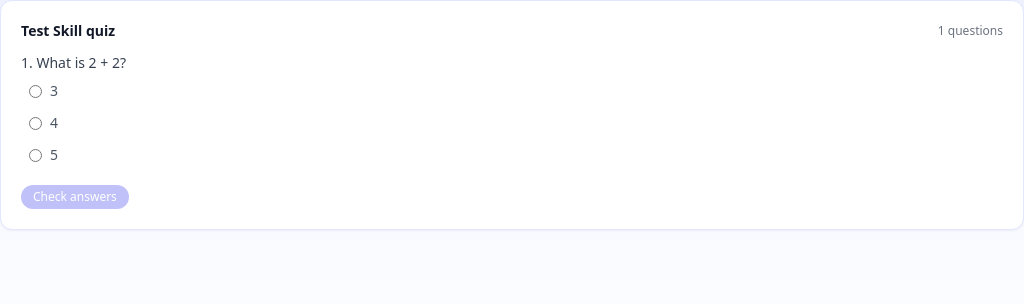
QuizPlayer › scores the quiz, persists the result, and links back to the skill
expect the button "Check answers" is disabled: met, box 21,185 -> 129,209
Click the radio button labelled "4" at (36, 123), box 29,116 -> 42,130
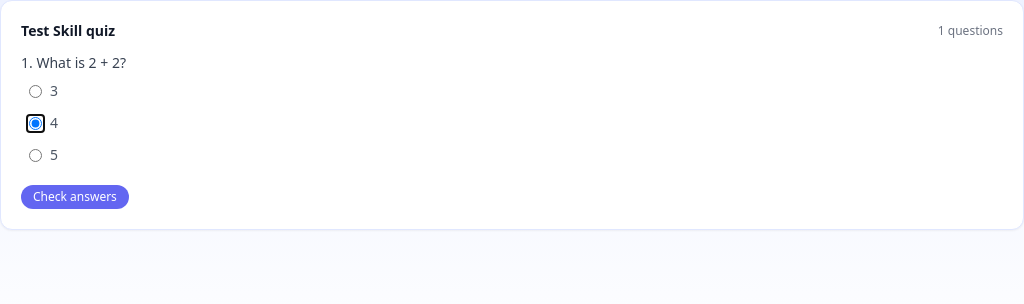
expect the button "Check answers" is enabled: met
Click the button "Check answers" at (75, 197), box 21,185 -> 129,209
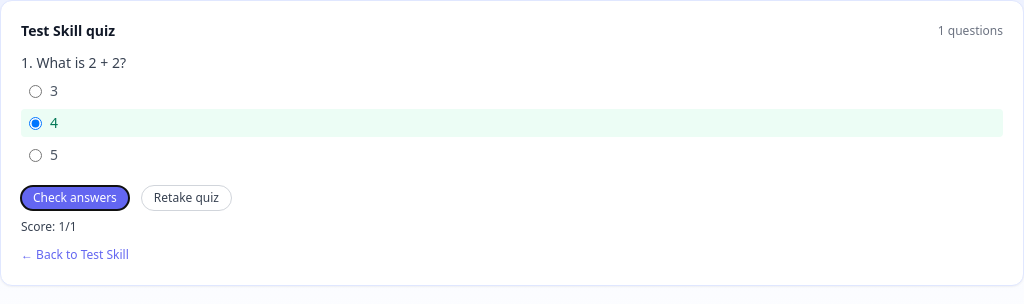
expect the text "Score: 1/1" is shown: met, box 21,218 -> 77,235
